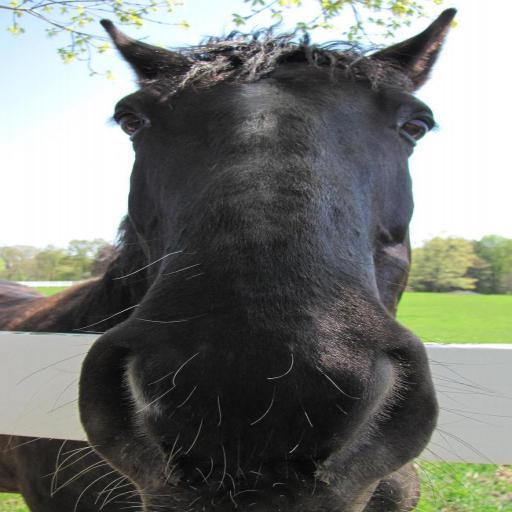horse: (0, 6, 511, 511)
